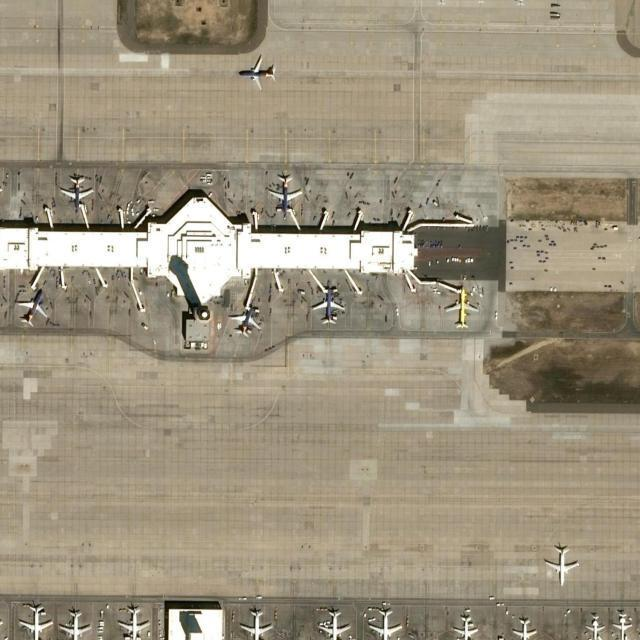Aircraft: (542, 542, 581, 586), (443, 285, 479, 330), (235, 54, 277, 92), (309, 283, 345, 325), (267, 171, 303, 211), (13, 287, 49, 326), (16, 603, 54, 639), (58, 171, 94, 208), (369, 605, 405, 640), (227, 305, 264, 339), (238, 606, 274, 640), (316, 607, 352, 640), (118, 605, 150, 639), (59, 608, 91, 640), (451, 612, 480, 640), (612, 611, 634, 640), (582, 611, 604, 639), (512, 616, 537, 640)
